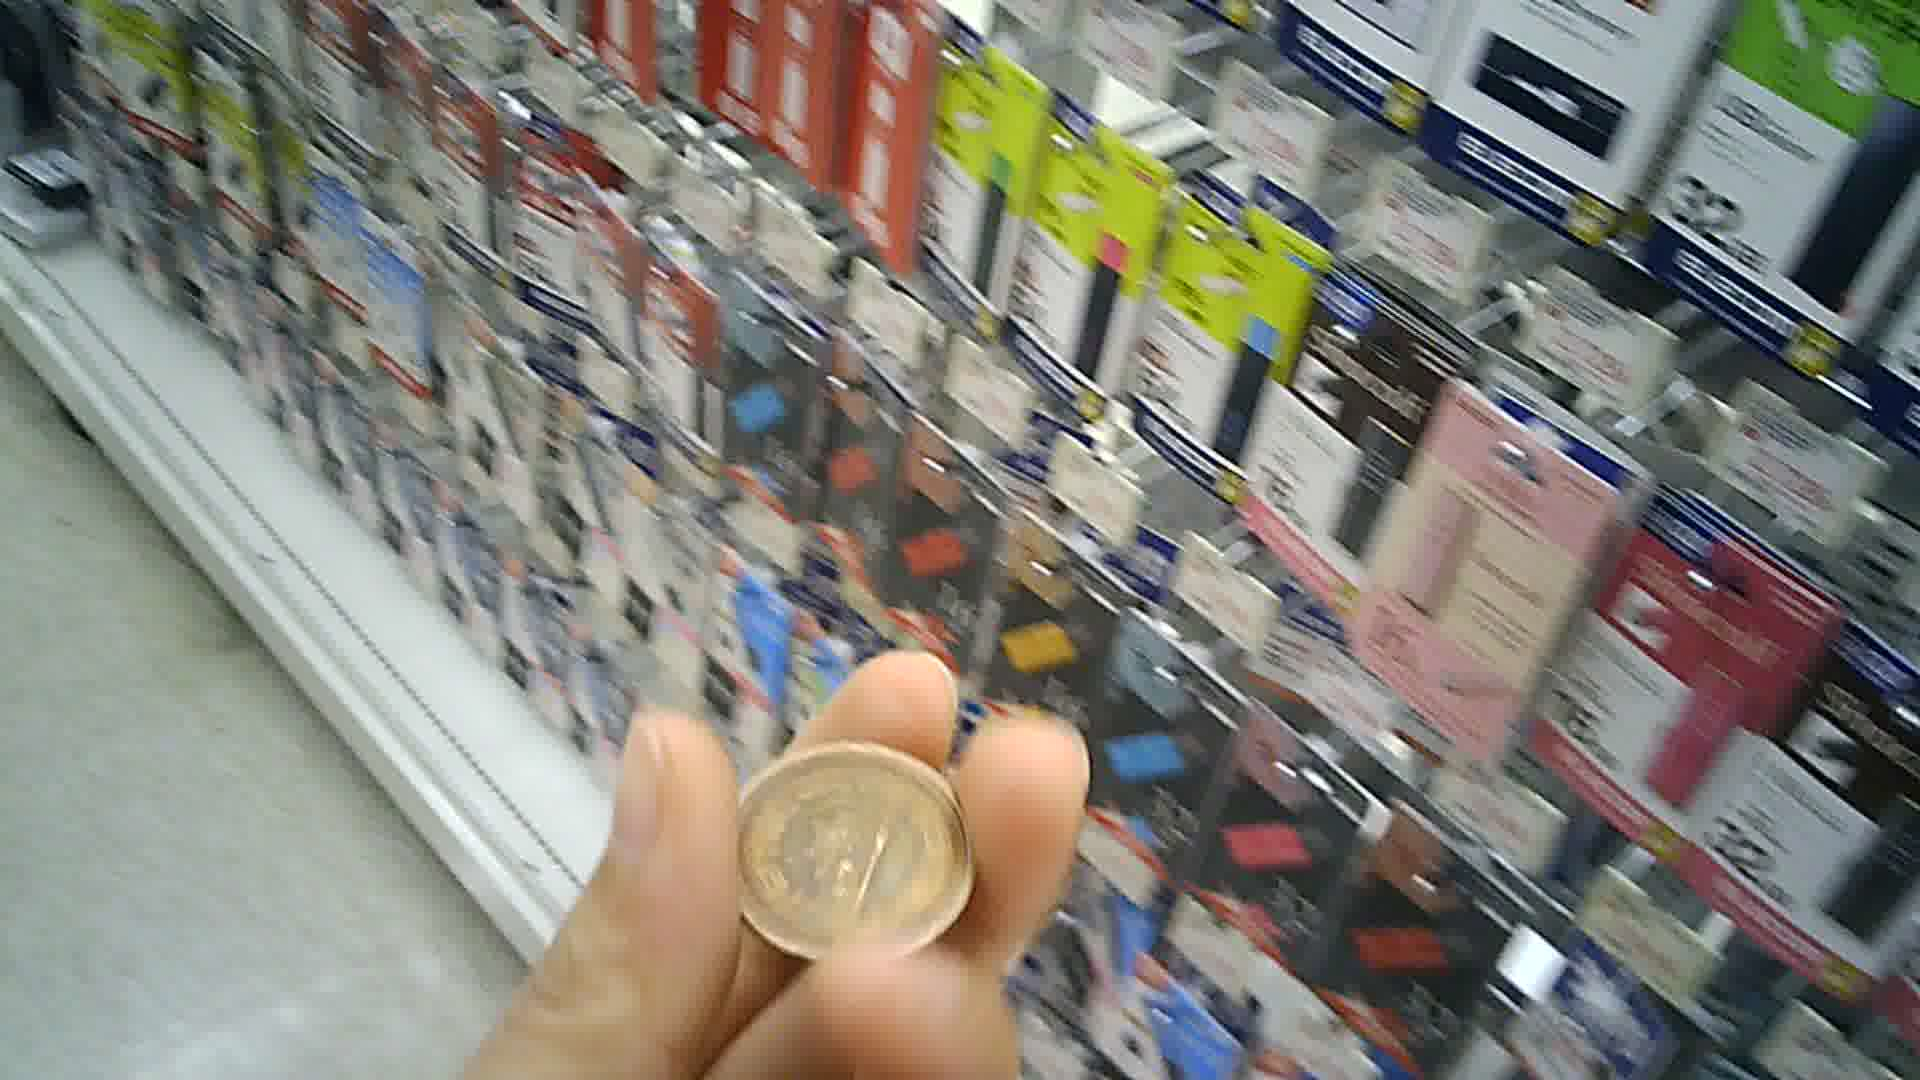10 Yen: (717, 735, 969, 972)
